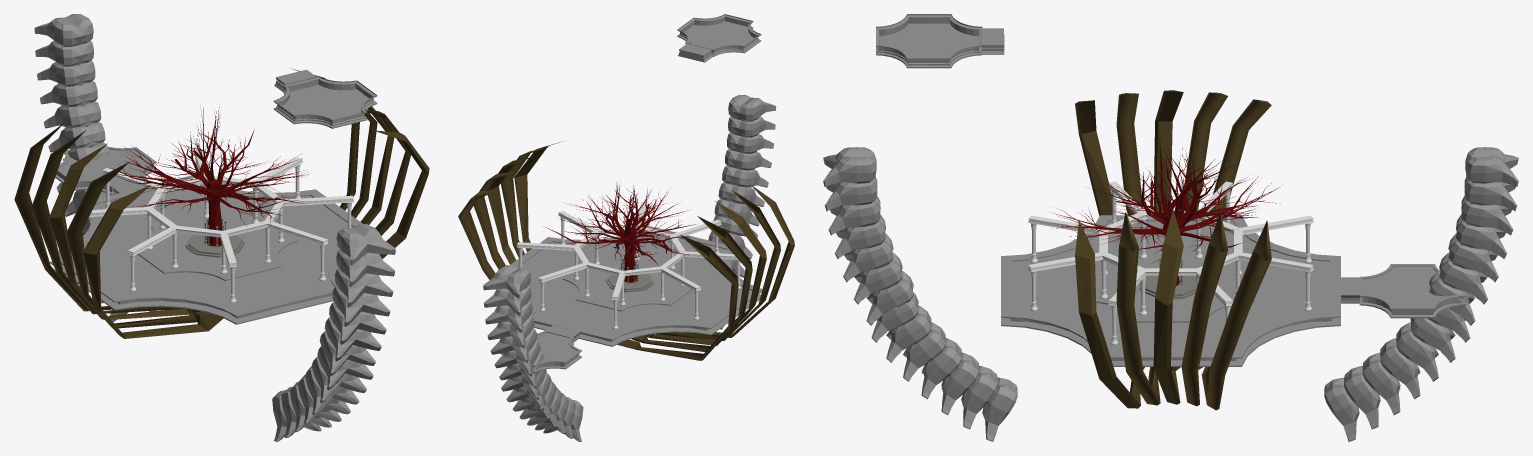
Rendered from stage04.FBX.
3 renders of one model, left to right at view 1: azimuth 30°, elevation 25°; view 2: azimuth 150°, elevation 25°; view 3: azimuth 270°, elevation 25°, orthographic. The views are drawn at different scales.
Parts seen in each view (by area): view 1: Object027, Skeleton_lowPoly004, Object076, Object074, Object077, Object002, 001, Object073, Object072, object 27, Dummy001, WoodBase_Branches001 (+11 smaller); view 2: Object027, Skeleton_lowPoly004, Object074, Object076, Object075, Object002, 001, Object072, Object073, object 27, WoodBase_Branches001, Dummy001 (+11 smaller); view 3: Object027, Skeleton_lowPoly004, Object076, Object074, Object077, Object075, Object073, Object072, 001, object 27, Object002, Dummy001 (+5 smaller).
Boxes of the visible parts, <box> form: Object027: <box>50,175,362,324</box>; Skeleton_lowPoly004: <box>14,68,410,328</box>; Object076: <box>319,224,395,376</box>; Object074: <box>34,14,109,163</box>; Object077: <box>272,346,373,441</box>; Object002: <box>137,210,297,280</box>; 001: <box>273,69,377,128</box>; Object073: <box>83,130,429,338</box>; Object072: <box>49,106,394,319</box>; object 27: <box>55,146,156,194</box>; Dummy001: <box>117,104,303,225</box>; WoodBase_Branches001: <box>112,124,265,213</box>; Object027: <box>509,225,762,346</box>; Skeleton_lowPoly004: <box>458,146,780,360</box>; Object074: <box>483,265,544,388</box>; Object076: <box>714,95,776,226</box>; Object075: <box>501,369,583,441</box>; Object002: <box>563,254,692,311</box>; 001: <box>677,14,761,62</box>; Object072: <box>487,157,766,345</box>; Object073: <box>514,141,794,337</box>; object 27: <box>500,325,581,372</box>; WoodBase_Branches001: <box>543,188,697,260</box>; Dummy001: <box>588,182,668,272</box>; Object027: <box>1001,215,1340,366</box>; Skeleton_lowPoly004: <box>1116,92,1271,410</box>; Object076: <box>823,147,913,325</box>; Object074: <box>1429,147,1518,325</box>; Object077: <box>871,292,1017,441</box>; Object075: <box>1324,308,1470,441</box>; Object073: <box>1075,100,1144,408</box>; Object072: <box>1153,90,1183,404</box>; 001: <box>876,14,1004,68</box>; object 27: <box>1341,264,1465,318</box>; Object002: <box>1095,250,1254,322</box>; Dummy001: <box>1051,146,1280,243</box>.
Bounding box in the file's own units: 340 × 338 × 541.
